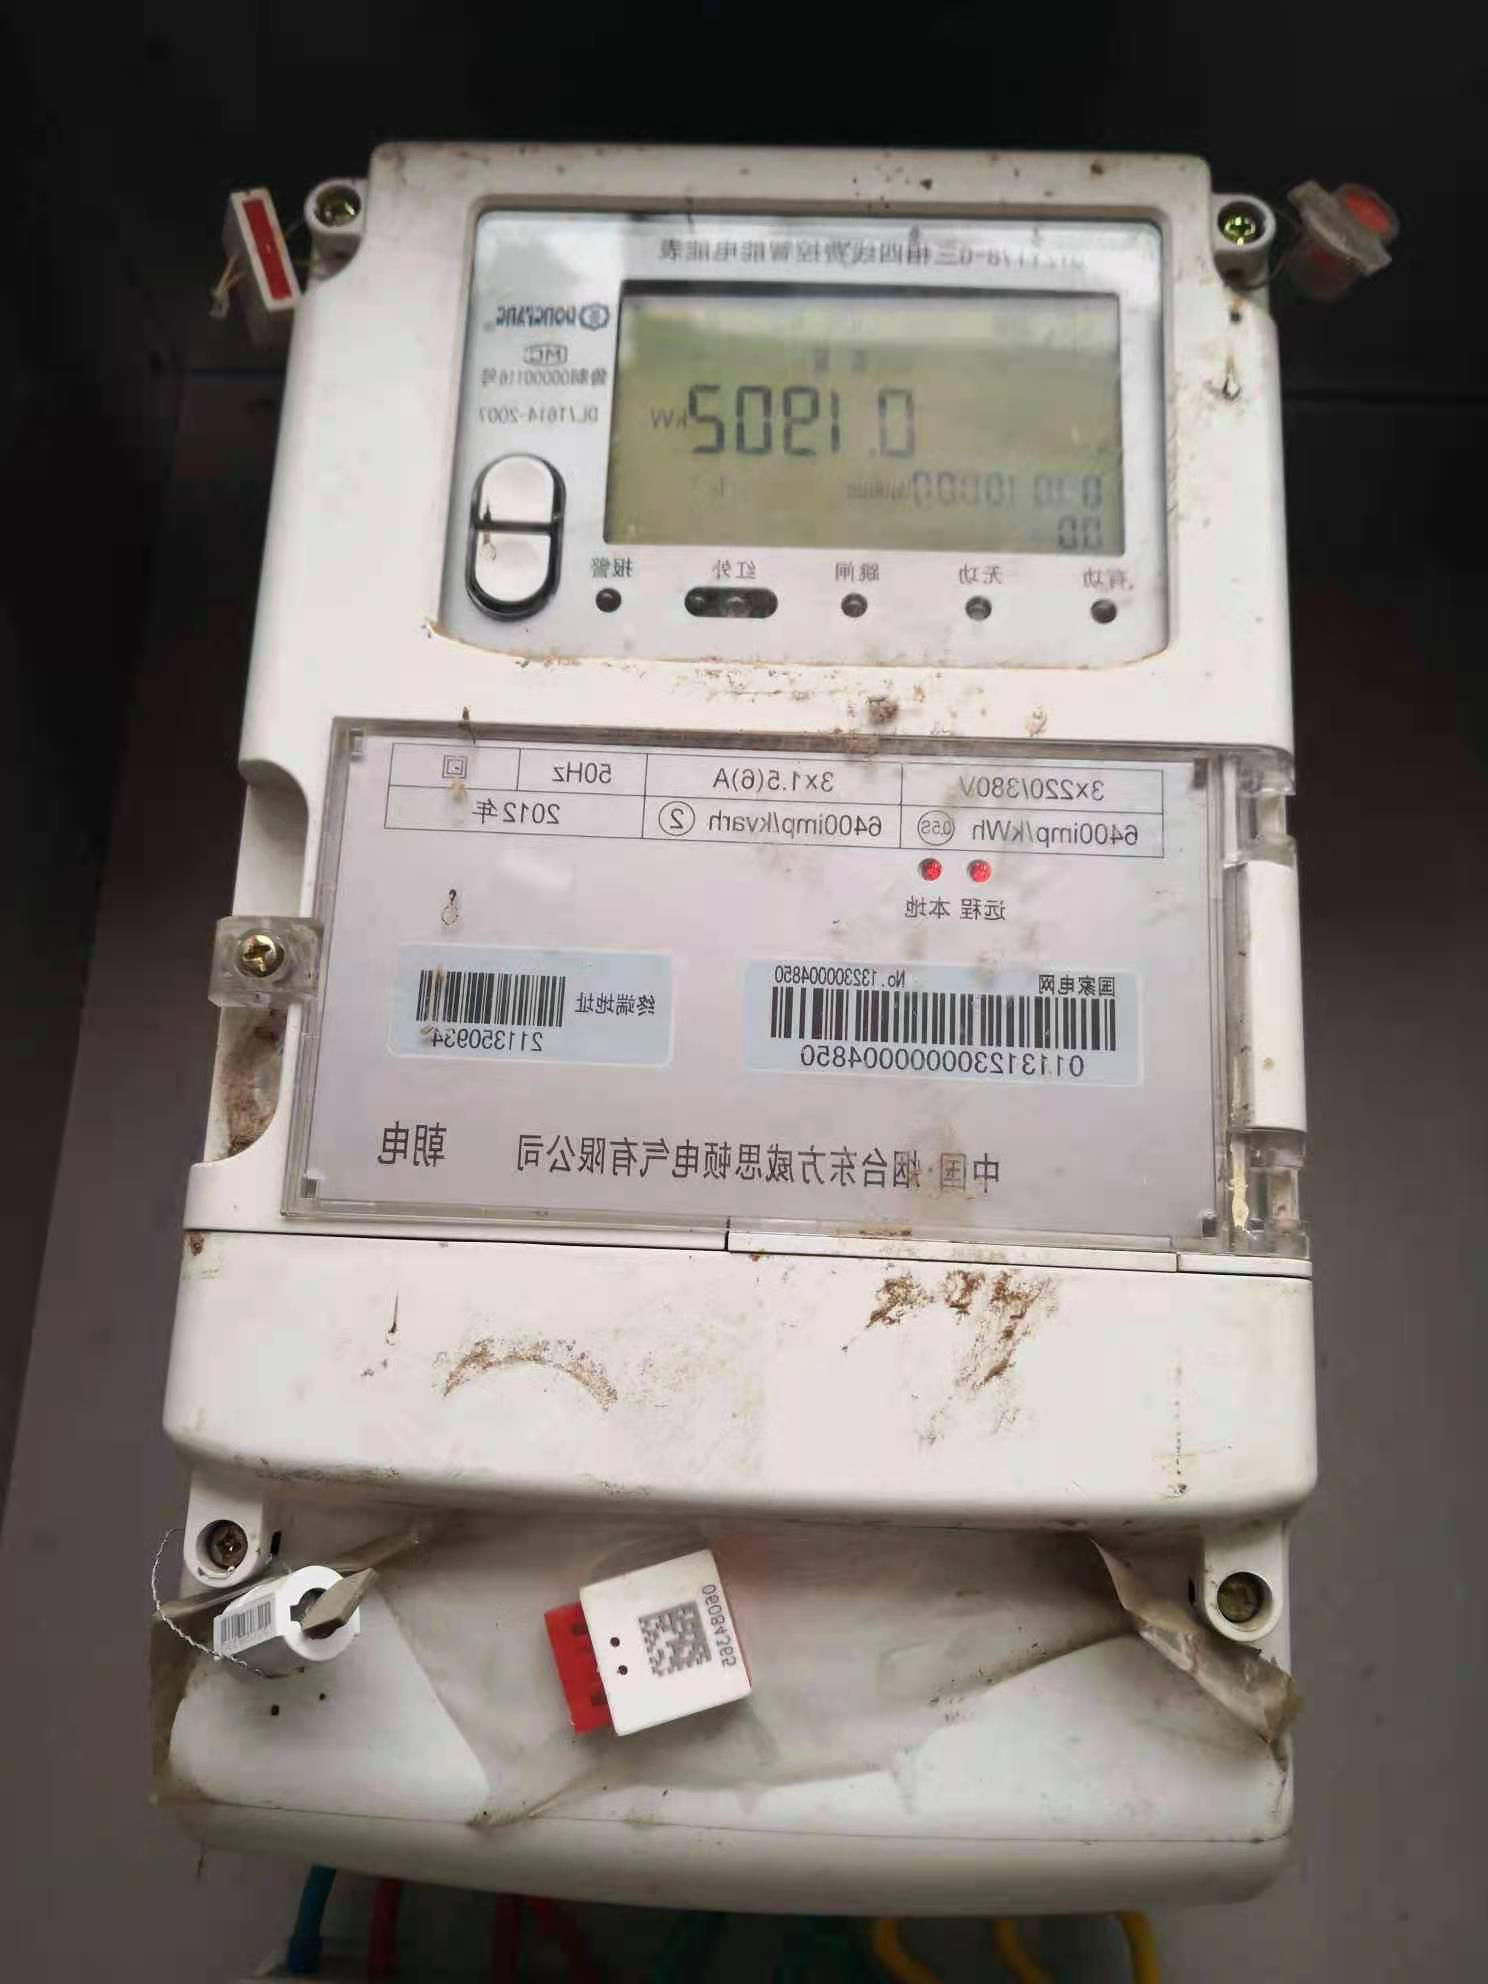digital: (166, 131, 1329, 1512)
